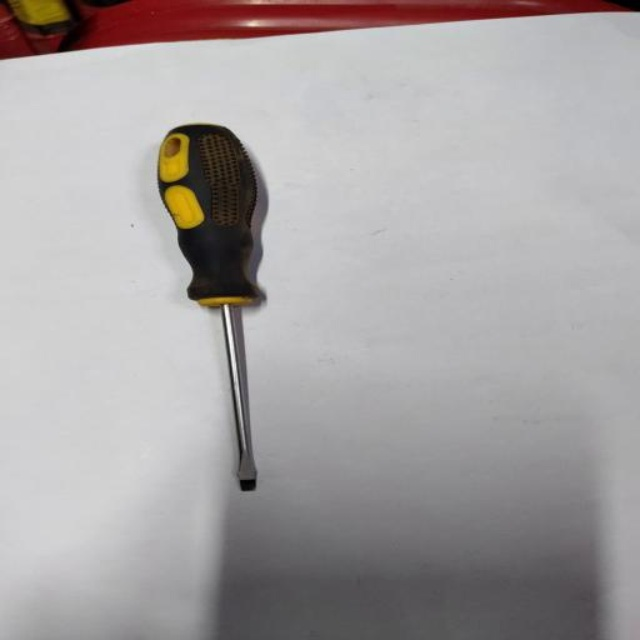screwdriver: (153, 120, 278, 493)
